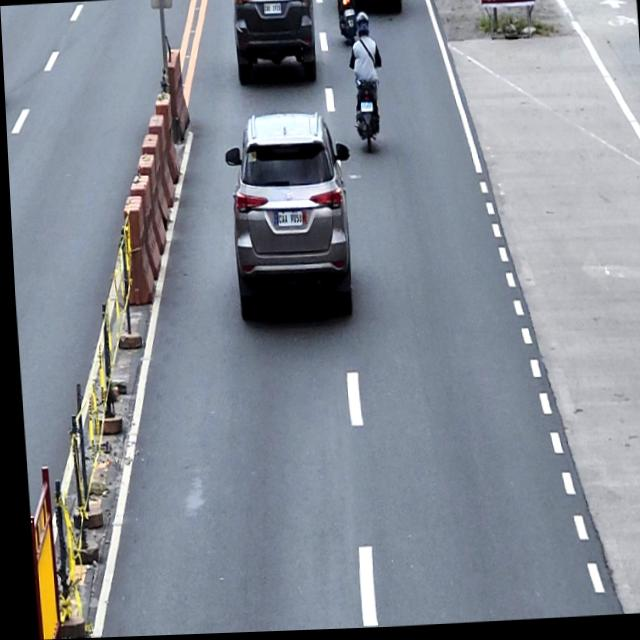Car: (220, 110, 356, 324), (231, 0, 317, 87)
License-Plate: (274, 212, 301, 230), (263, 5, 281, 17), (359, 104, 372, 116), (343, 11, 355, 20)
Motorcycle: (350, 76, 381, 156), (335, 0, 358, 49)
